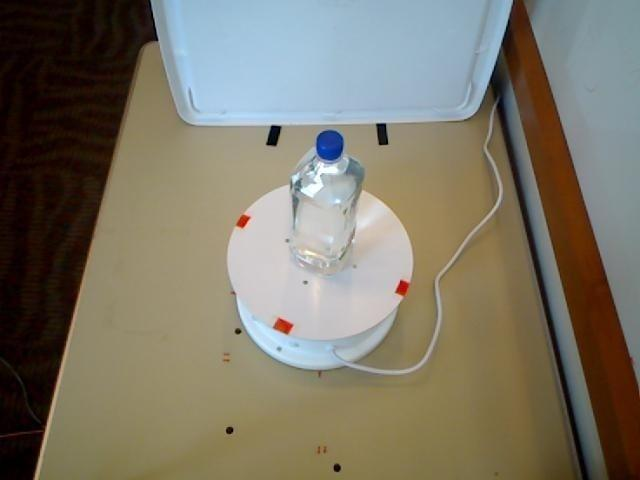bottle-plastic: (283, 123, 369, 280)
